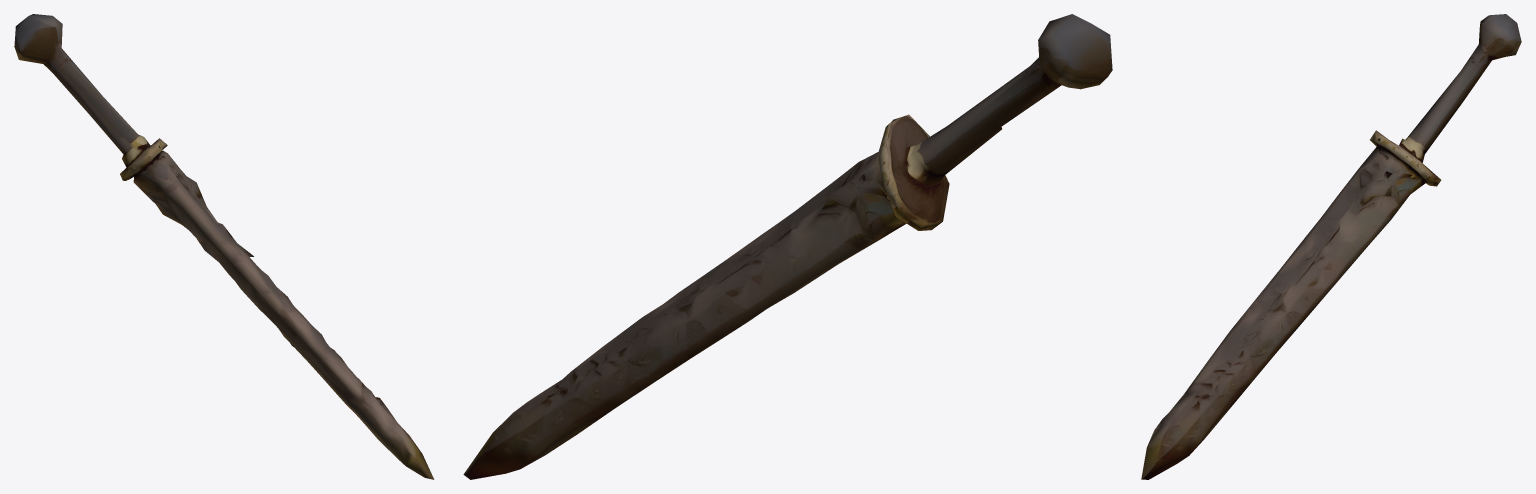
File: bronze_sword.glb
3 renders of one model, left to right at view 1: azimuth 30°, elevation 25°; view 2: azimuth 210°, elevation 25°; view 3: azimuth 270°, elevation 25°, orthographic. The views are drawn at different scales.
Parts seen in each view (by area): view 1: tripo_node_072fdf88-713f-4d96-9dff-ebd888a1e964; view 2: tripo_node_072fdf88-713f-4d96-9dff-ebd888a1e964; view 3: tripo_node_072fdf88-713f-4d96-9dff-ebd888a1e964.
Part boxes in pixels (x1=…): tripo_node_072fdf88-713f-4d96-9dff-ebd888a1e964: x1=14, y1=14, x2=434, y2=479; tripo_node_072fdf88-713f-4d96-9dff-ebd888a1e964: x1=463, y1=14, x2=1112, y2=479; tripo_node_072fdf88-713f-4d96-9dff-ebd888a1e964: x1=1141, y1=14, x2=1521, y2=479.
Size of the model in its own units: 0.5782 by 0.9 by 0.8494.
1 material, 1 textured.
